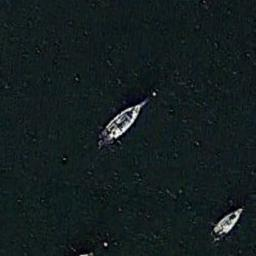boat: (105, 96, 151, 139), (209, 206, 245, 240)
